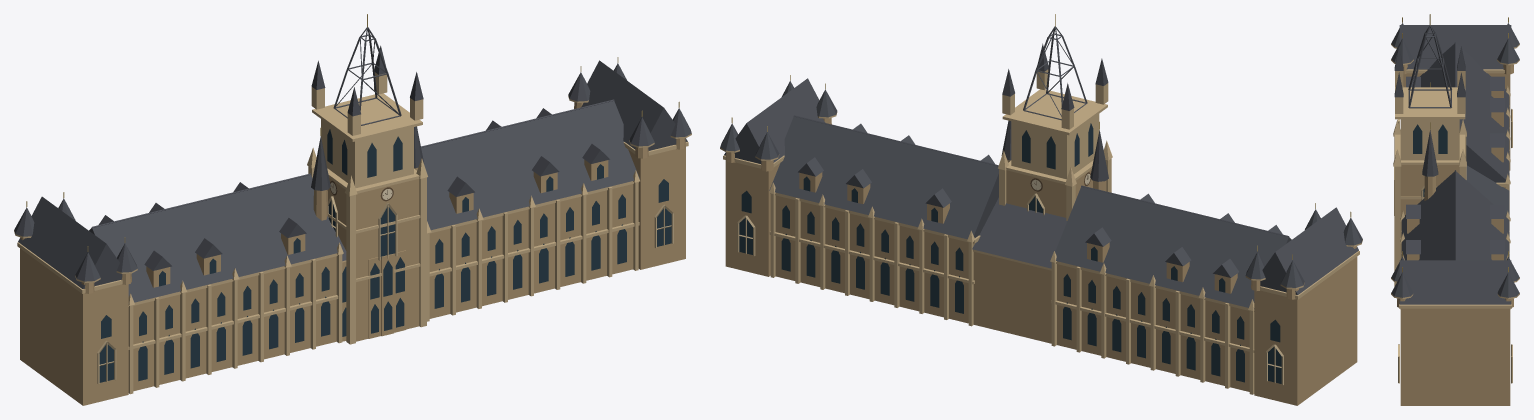
The model's file is university.lod1.glb.
3 views of the same model, side by side, from view 1: azimuth 30°, elevation 25°; view 2: azimuth 150°, elevation 25°; view 3: azimuth 270°, elevation 25° (orthographic). The views are drawn at different scales.
Parts seen in each view (by area): view 1: Trim, Mass, Glass; view 2: Trim, Mass, Glass; view 3: Trim, Mass, Glass.
Boxes of the visible parts, box(x1,y1,x2,y2) form: Trim: box(14, 14, 691, 394); Mass: box(20, 102, 685, 405); Glass: box(99, 129, 671, 382); Trim: box(720, 14, 1362, 394); Mass: box(725, 114, 1357, 405); Glass: box(739, 123, 1281, 383); Trim: box(1391, 14, 1519, 383); Mass: box(1397, 64, 1513, 405); Glass: box(1413, 124, 1447, 196).
Bounding box in the file's own units: 72.9 × 34.7 × 15.3.
